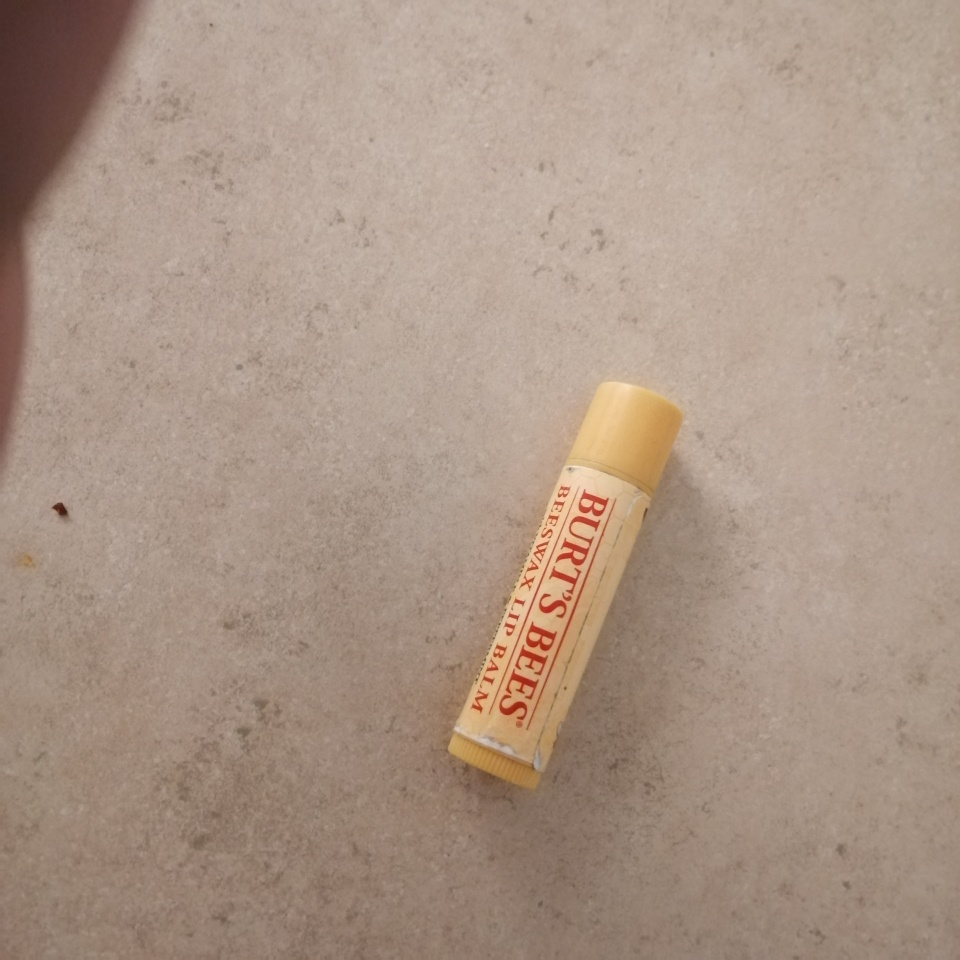chapstick: (447, 380, 684, 792)
